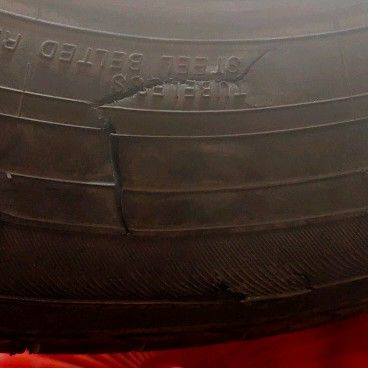cut: (85, 53, 271, 106), (96, 111, 126, 231)
